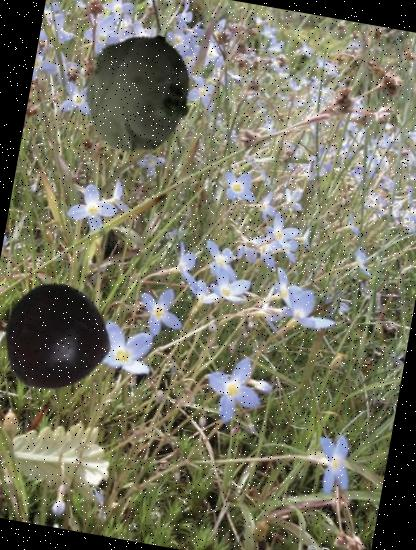Chestnut: (0, 277, 119, 403)
Kohlrabi: (66, 22, 208, 163), (42, 301, 104, 364)
